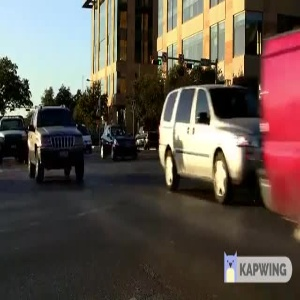car: (91, 120, 138, 164)
suv: (147, 81, 266, 197), (21, 102, 90, 184)
